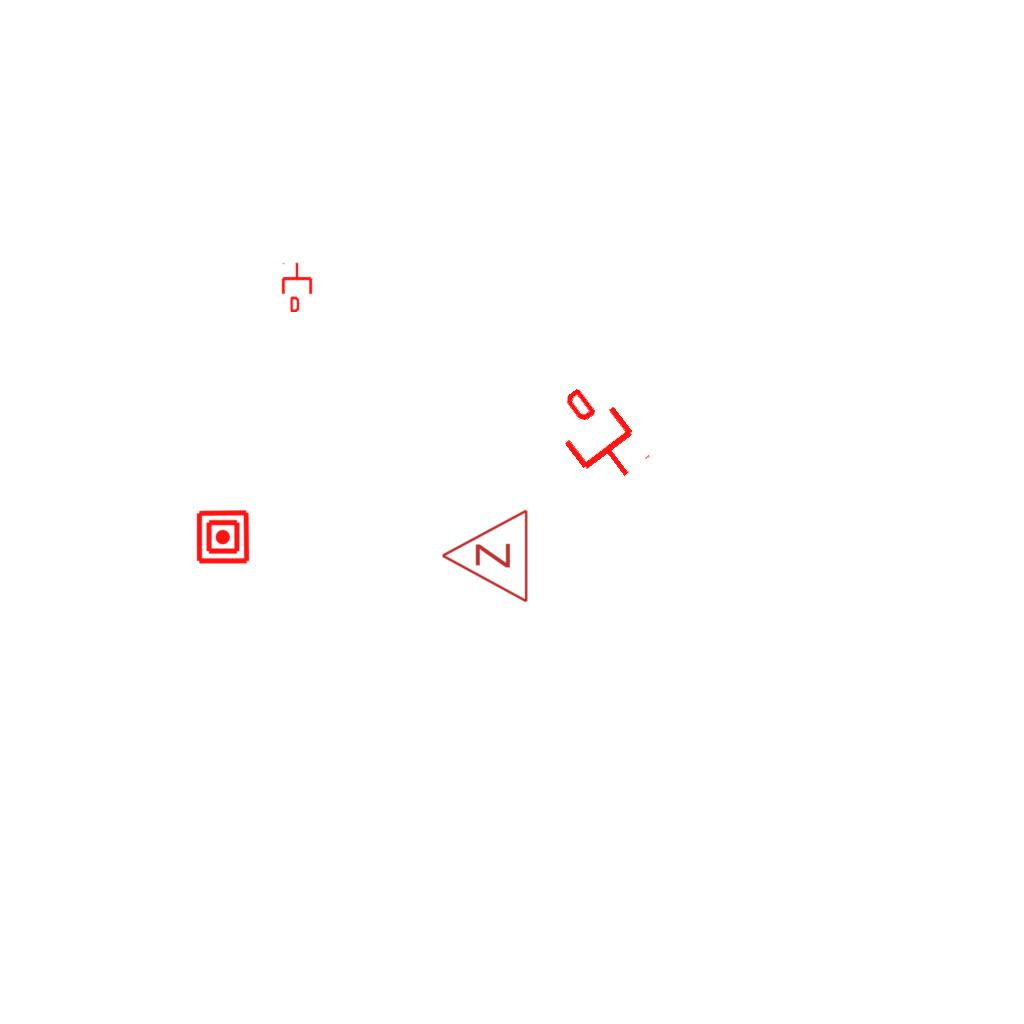Datenanschluss_einfach: (539, 375, 656, 497), (280, 262, 314, 312)
NAM-Nichtautomatischer_Melder: (195, 509, 251, 565)
Zimmersignalleuchte: (435, 508, 535, 606)
